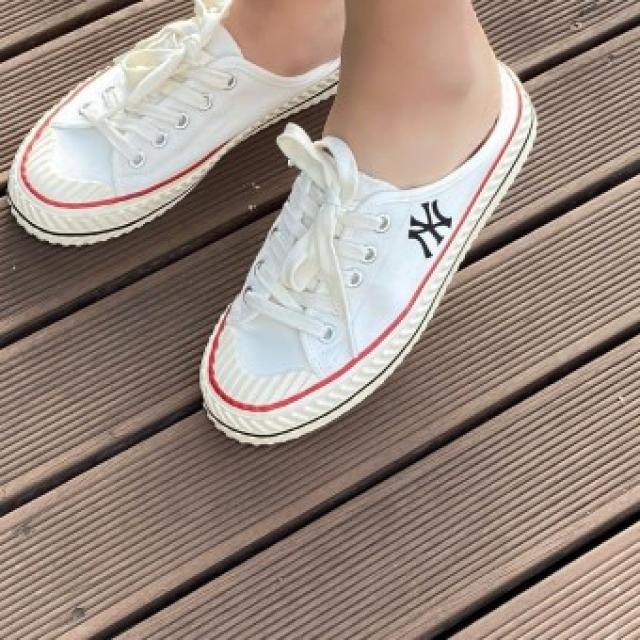no-boots: (203, 52, 574, 472)
